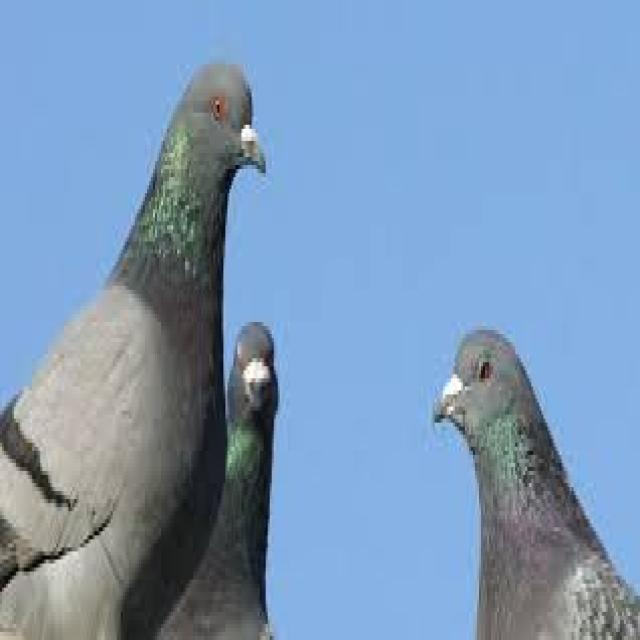pigeon: (424, 273, 640, 636)
